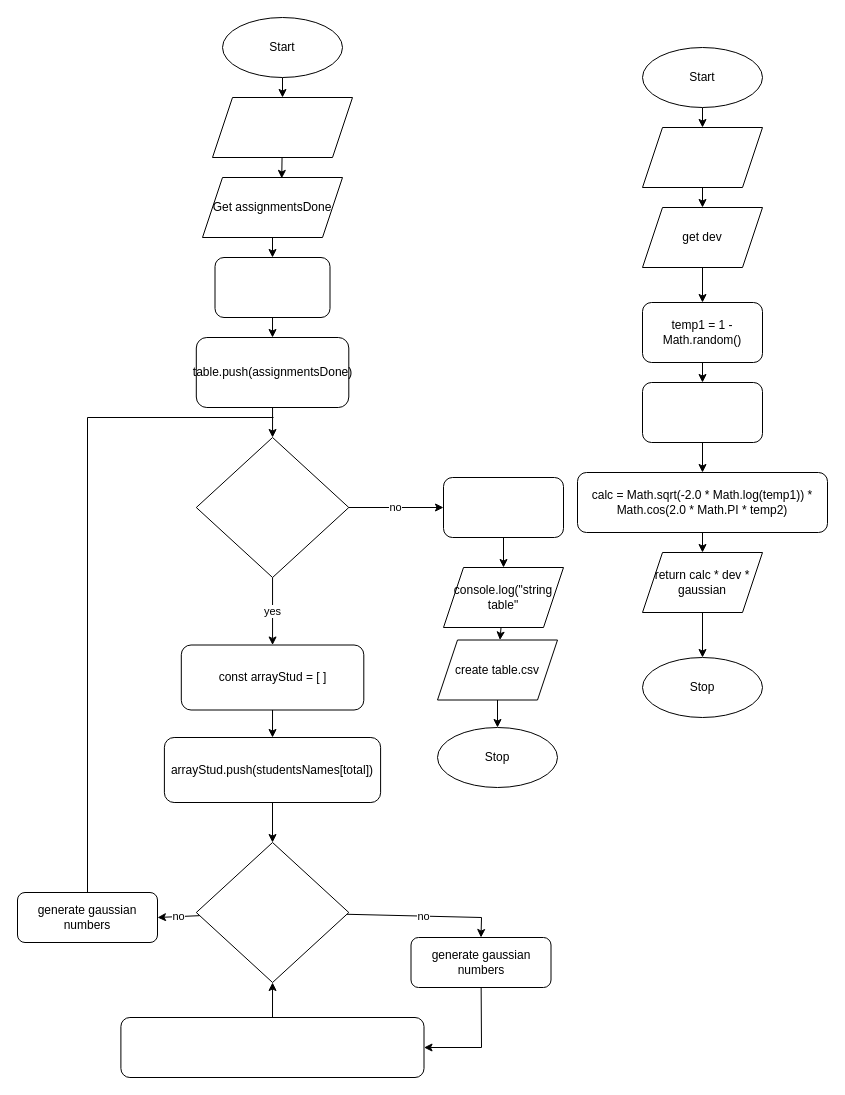
The diagram is 845 pixels wide and 1095 high, and some of its shapes have lost their labels. The box of each missing label's shape, as (x1, y1, x2, y2) in pixels:
add elements to the table: (442, 476, 564, 538)
arrayStud.push(Math.round9gaussianEquation(75, 10))): (120, 1016, 424, 1078)
for (let total = 0; total < studentsNames.length; total++): (195, 436, 349, 578)
for (let unit = 0; unit < worklength; unit++): (195, 842, 349, 982)
get gaussian: (642, 126, 762, 188)
get studentsNames: (212, 96, 352, 158)
table = [ ]: (214, 256, 330, 318)
temp2 = Math.random(): (642, 382, 762, 442)
